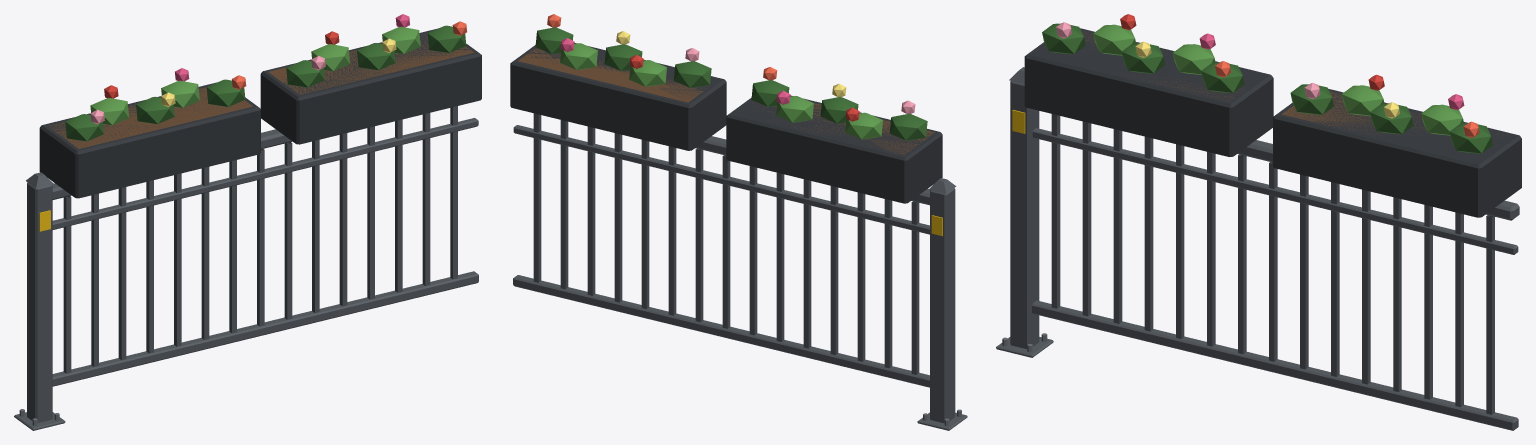
The model's file is SC_Str_Guardrail_Planter_2m.gltf.
The picture shows the model from 3 angles, left to right: view 1: azimuth 30°, elevation 25°; view 2: azimuth 150°, elevation 25°; view 3: azimuth 330°, elevation 25°; orthographic projection. The views are drawn at different scales.
Visible parts, largest first — view 1: SC_Str_Guardrail_Planter_2m; view 2: SC_Str_Guardrail_Planter_2m; view 3: SC_Str_Guardrail_Planter_2m.
Boxes of the visible parts, <box> form: SC_Str_Guardrail_Planter_2m: <box>14,14,481,430</box>; SC_Str_Guardrail_Planter_2m: <box>510,14,967,430</box>; SC_Str_Guardrail_Planter_2m: <box>996,14,1521,430</box>.
Bounding box in the file's own units: 2.06 × 1.33 × 0.3.
Materials: 1 (1 with a texture image).
